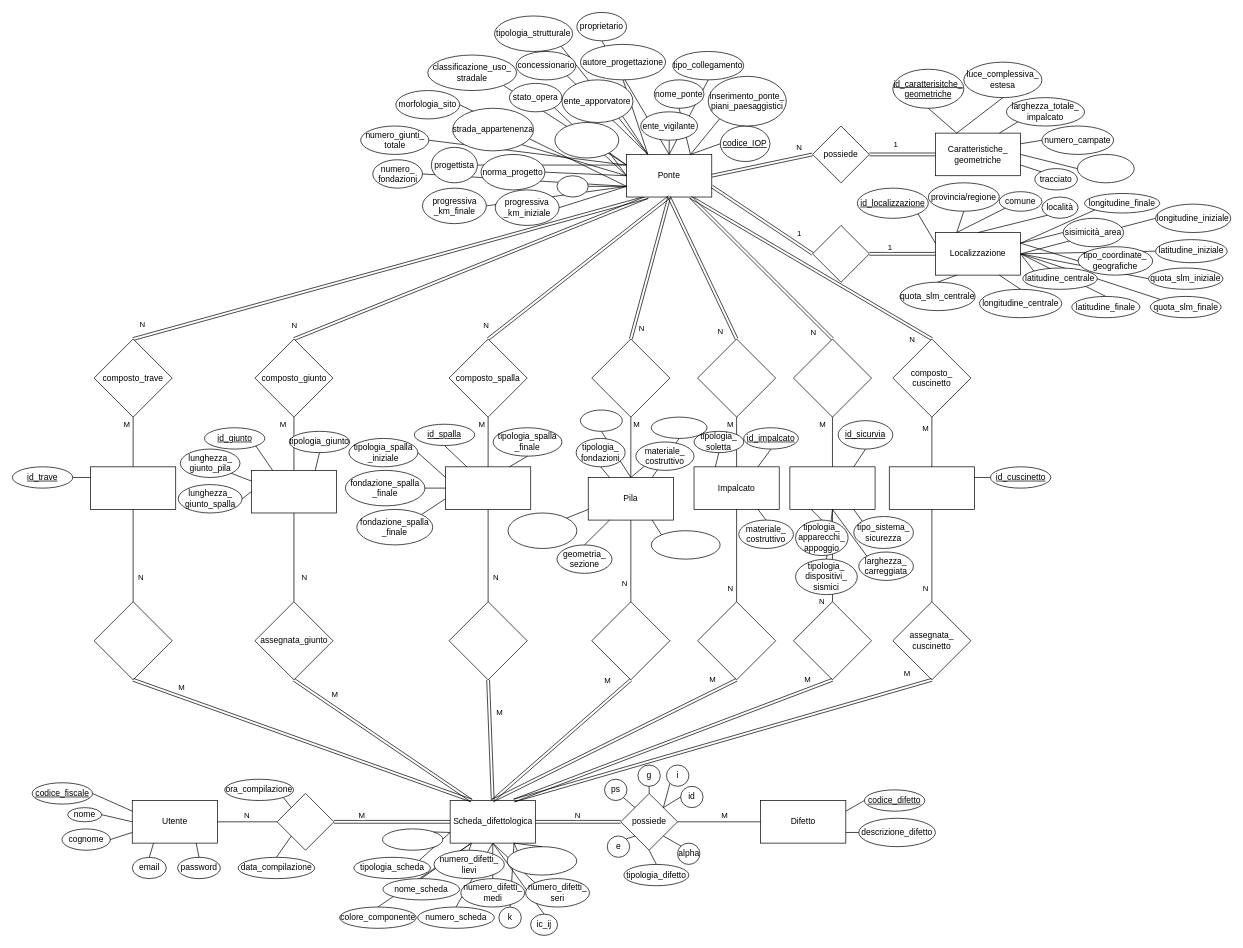
This 1243x948 diagram has some shape labels left out. The box of each missing label's shape, as (x1, y1, x2, y2) in pixels:
altezza_pile: (651, 416, 707, 438)
assegnata_ impalcato: (697, 601, 776, 680)
assegnata_ sicurvia: (793, 601, 872, 680)
assegnata_pila: (591, 601, 670, 680)
assegnata_spalla: (448, 601, 527, 680)
assegnata_trave: (93, 601, 172, 680)
compila: (276, 793, 334, 850)
composto_ impalcato: (697, 338, 776, 417)
composto_ sicurvia: (793, 338, 872, 417)
composto_pila: (591, 338, 670, 417)
Cuscinetto: (889, 466, 974, 509)
evoluzione_ rispetto_ fondo_alveo: (507, 512, 577, 548)
Giunto: (251, 470, 337, 513)
ha: (812, 225, 869, 282)
ICS: (556, 175, 588, 197)
id_pila: (580, 409, 622, 431)
id_scheda: (382, 828, 443, 850)
luce_campate: (1077, 154, 1134, 183)
numero_difetti_ gravi: (506, 846, 577, 875)
provvedimenti_ tutela: (554, 122, 619, 158)
Sicurvia: (789, 466, 875, 509)
Spalla: (445, 466, 531, 509)
tipologia_sezione: (651, 530, 720, 559)
Trave: (90, 466, 176, 509)
